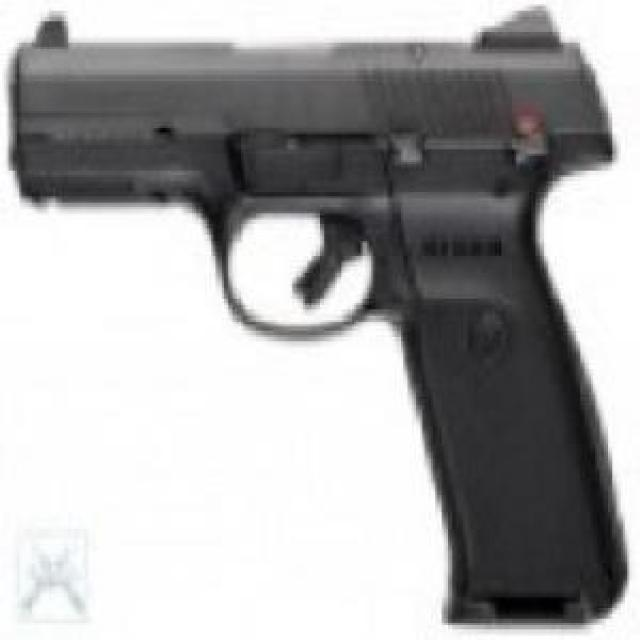pistol: (21, 6, 621, 632)
